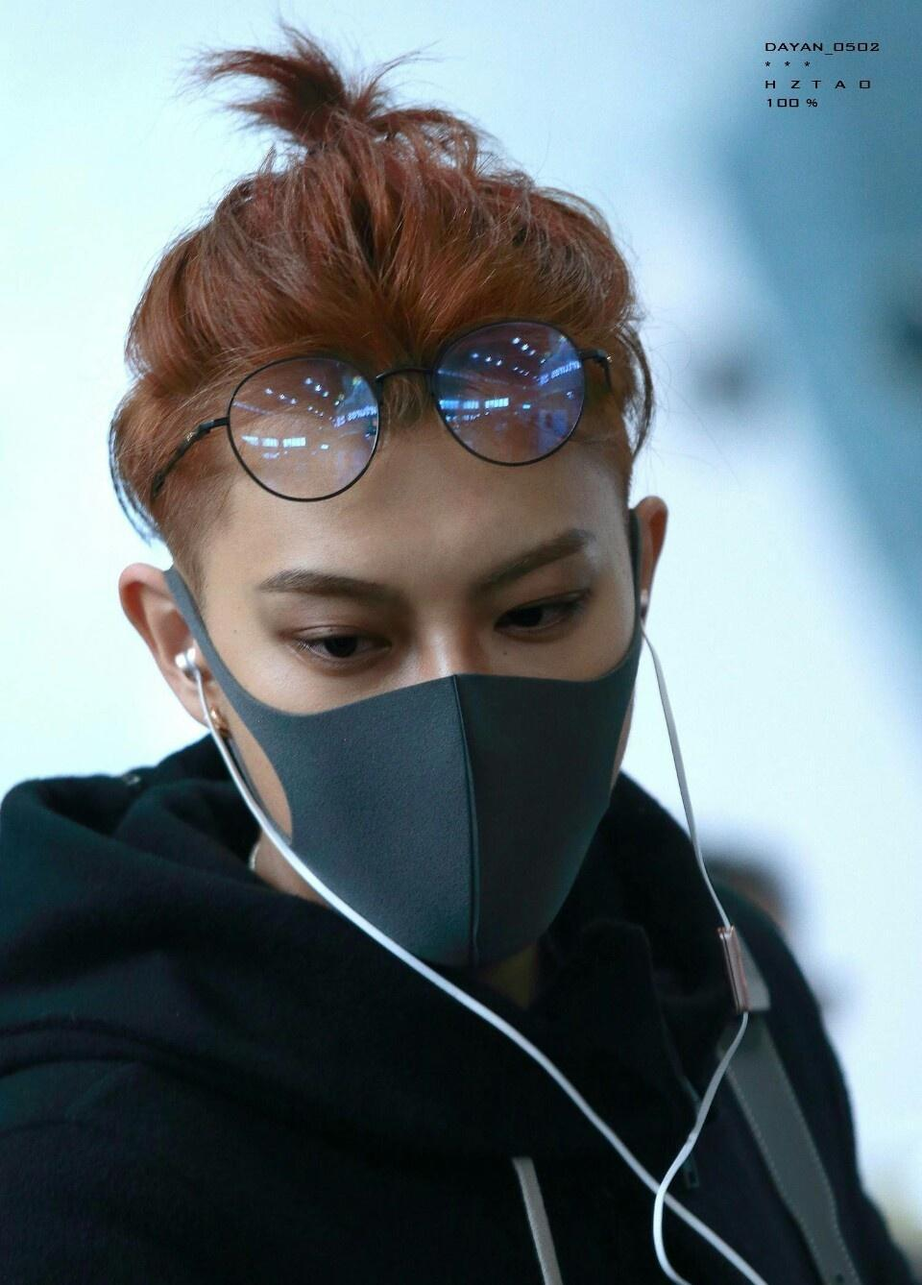OK: (183, 467, 643, 951)
